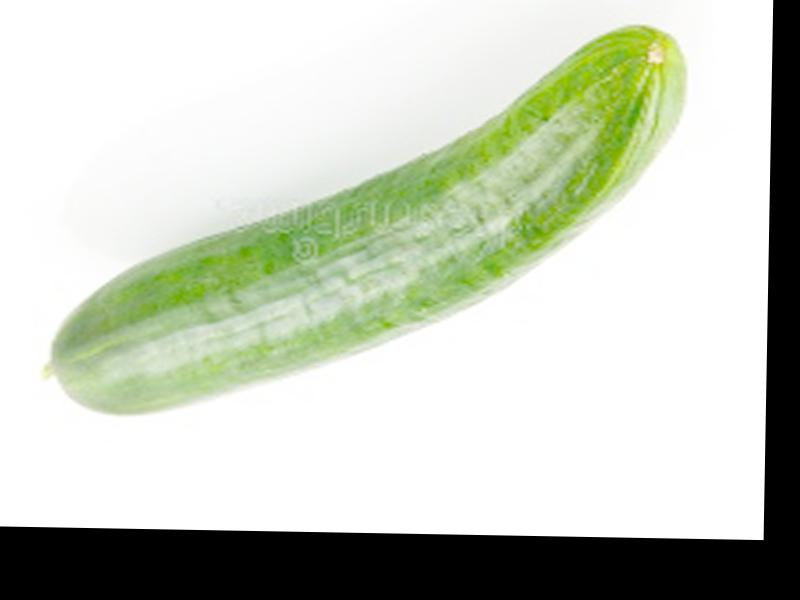Cucumber: (49, 14, 687, 424)
